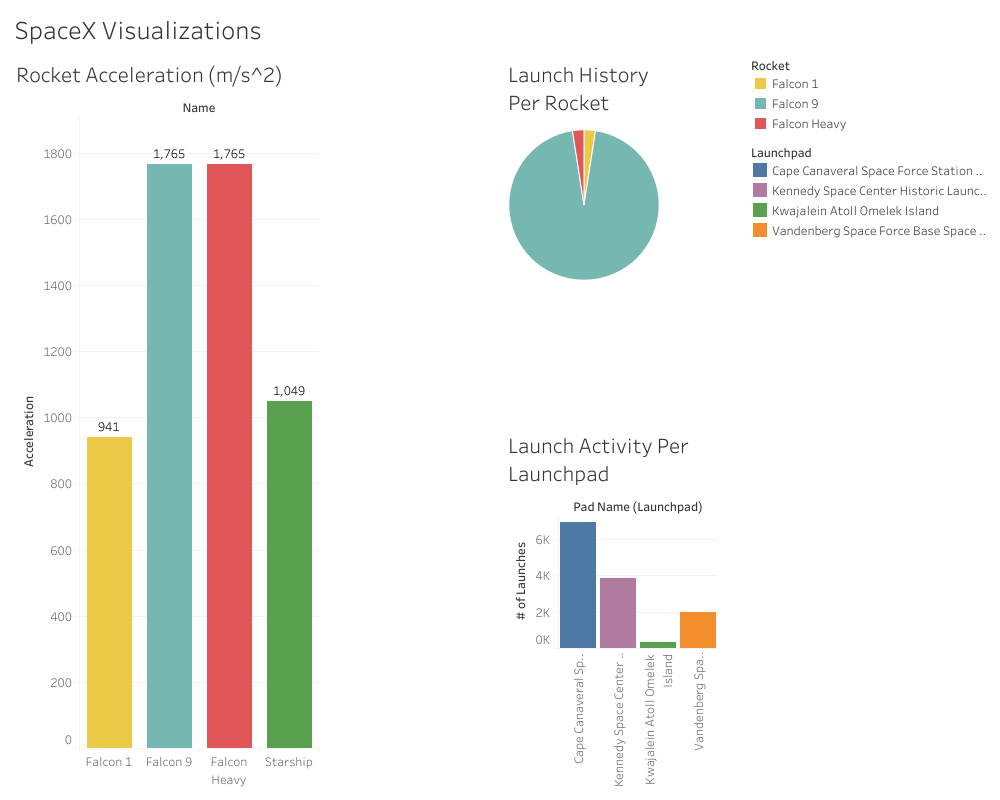

Layout of this report page (visuals, bound fields, positions):
{"tool":"tableau","page":{"name":"Dashboard 1","canvas":[1000,800],"ordinal":0},"visuals":[{"type":"title","box":[8,8,984,42]},{"type":"worksheet","title":"Sheet 2","mark":"Bar","rows":["acceleration"],"cols":["name"],"box":[8,50,492,742]},{"type":"worksheet","title":"Sheet 3","mark":"Pie","box":[500,50,246,371]},{"type":"legend","title":"Sheet 3","param":"[federated.0wcnl1p0z82l7s194rez71191qzm].[none:name:nk]","box":[746,50,246,87]},{"type":"legend","title":"Sheet 1","param":"[federated.0wcnl1p0z82l7s194rez71191qzm].[none:pad_name (launchpad):nk]","box":[746,137,246,107]},{"type":"worksheet","title":"Sheet 1","mark":"Bar","rows":["launchpad_DE1B4D346A6E45FCB067B9333F1FD6EE"],"cols":["pad_name (launchpad)"],"box":[500,421,246,371]}]}

Visuals, with their boxes in screenshot pixels (x1, y1, x2, y2), scaled from the page's 1000x800 canvas onto the 1000x800 screenshot:
title: x1=8 y1=8 x2=992 y2=50
"Sheet 2" worksheet (Bar marks): x1=8 y1=50 x2=500 y2=792
"Sheet 3" worksheet (Pie marks): x1=500 y1=50 x2=746 y2=421
"Sheet 3" legend: x1=746 y1=50 x2=992 y2=137
"Sheet 1" legend: x1=746 y1=137 x2=992 y2=244
"Sheet 1" worksheet (Bar marks): x1=500 y1=421 x2=746 y2=792
